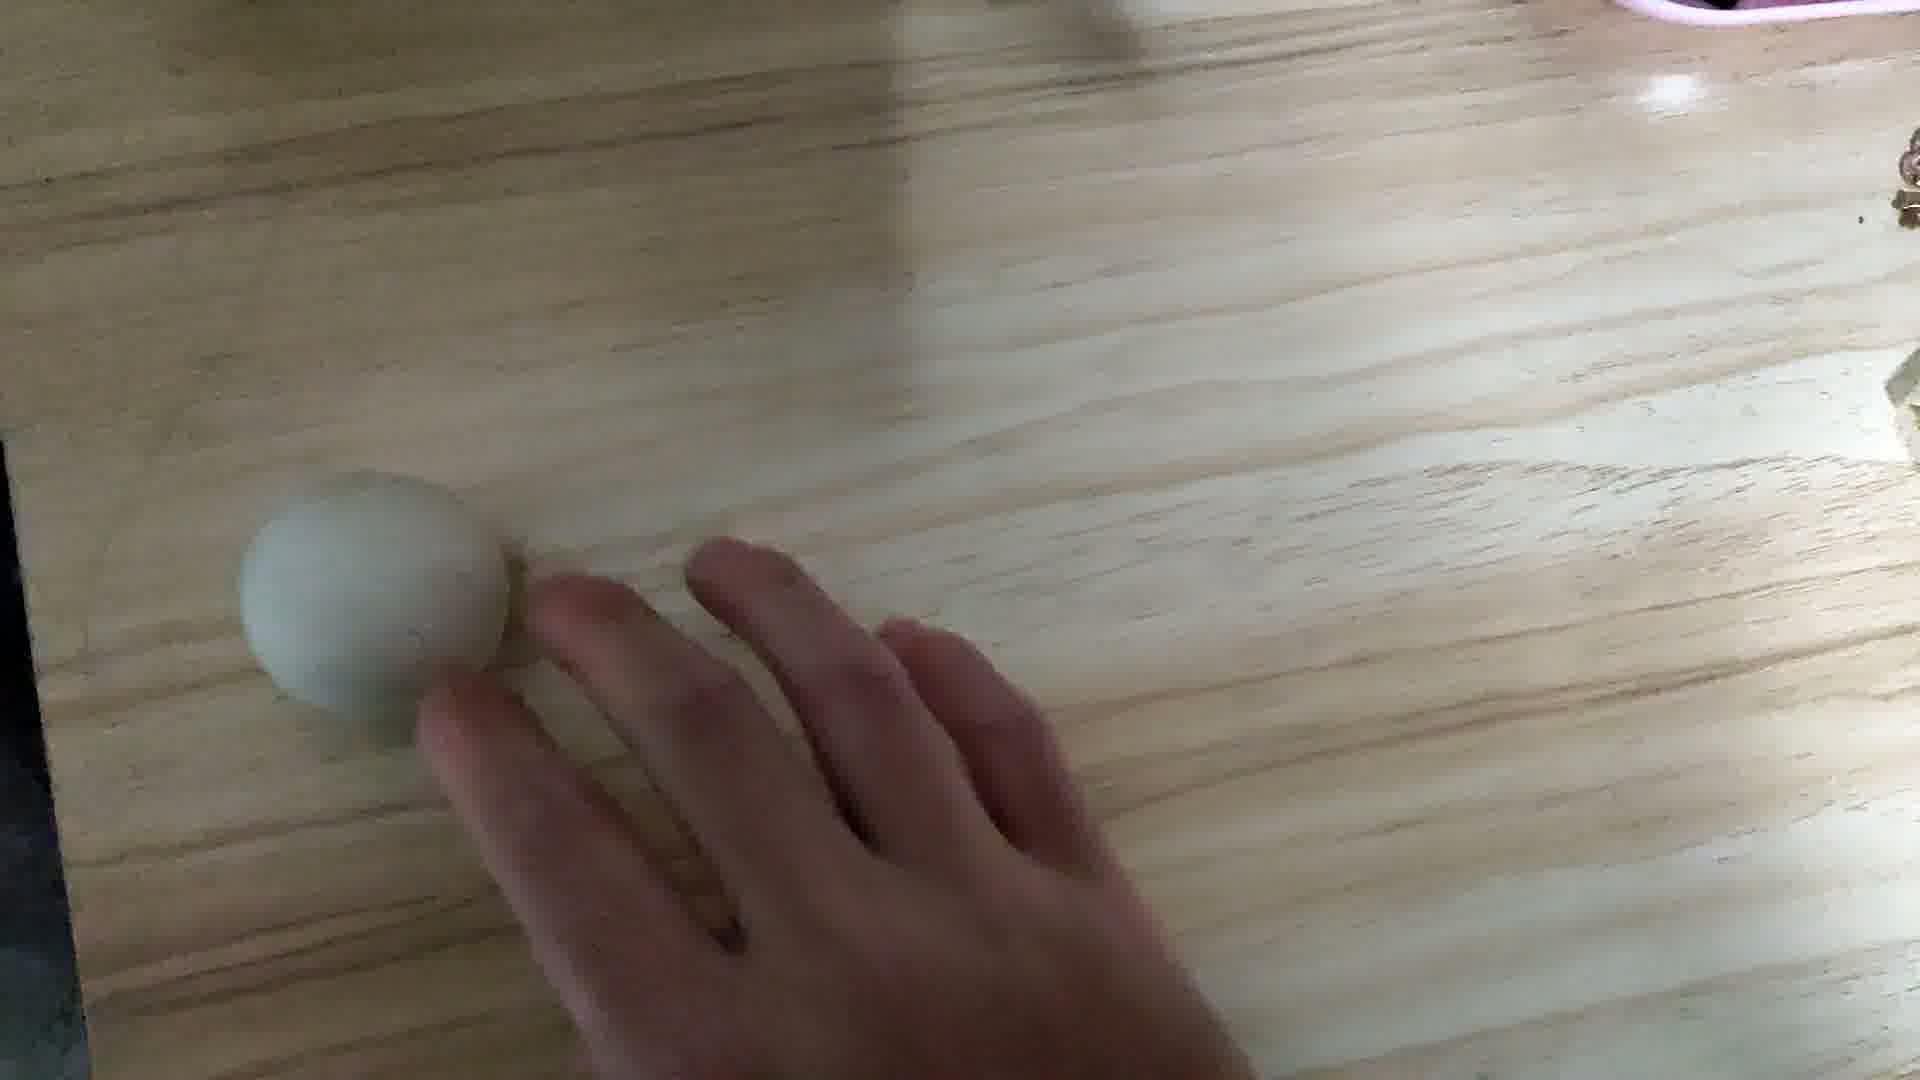Ball: (229, 473, 512, 716)
